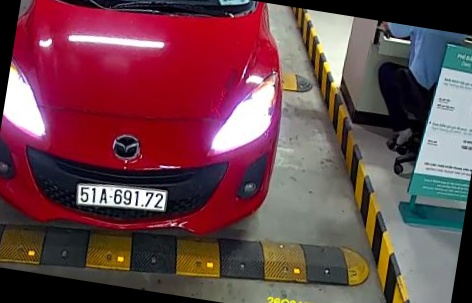plate: (75, 175, 170, 218)
